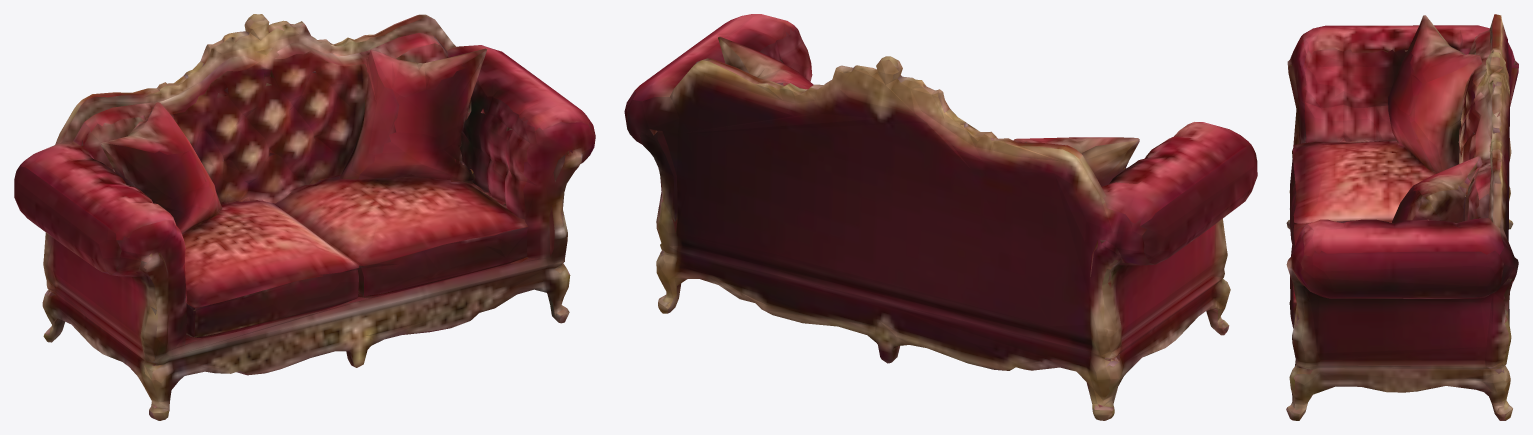
Rendered from velvet-sofa.gltf.
3 renders of one model, left to right at view 1: azimuth 30°, elevation 25°; view 2: azimuth 150°, elevation 25°; view 3: azimuth 270°, elevation 25°, orthographic. The views are drawn at different scales.
Parts seen in each view (by area): view 1: Sketchfab_model; view 2: Sketchfab_model; view 3: Sketchfab_model.
Part boxes in pixels (<box>): Sketchfab_model: <box>14,14,595,420</box>; Sketchfab_model: <box>624,14,1257,420</box>; Sketchfab_model: <box>1286,14,1518,420</box>.
Size of the model in its own units: 1.75 by 0.9493 by 0.733.
1 material, 1 textured.
